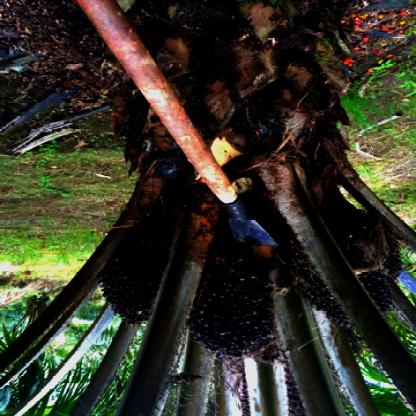palm-oil: (184, 247, 285, 361), (288, 230, 395, 326), (98, 213, 176, 327)
